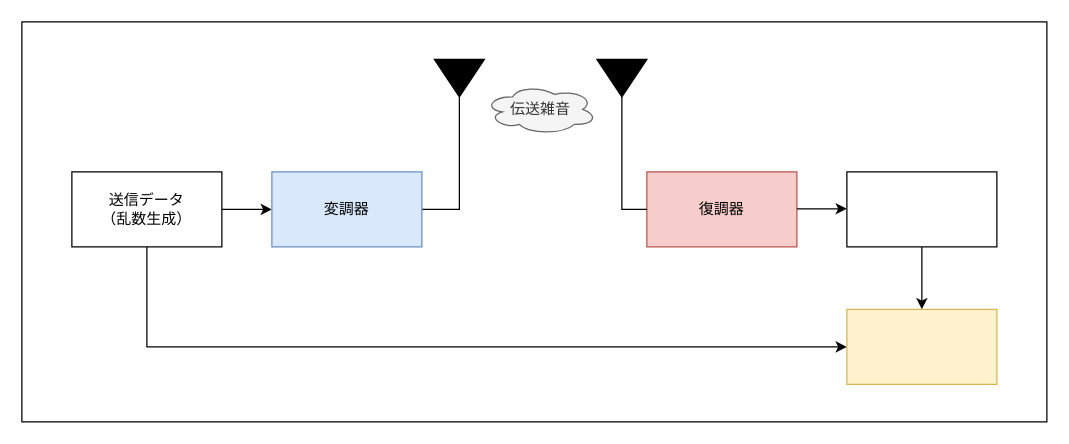
The diagram is 1069 pixels wide and 444 high, and some of its shapes have lost their labels. The centre of each missing label's shape, as x and y in pixels:
"データ比較器 （BER算出）" goes at [921,346].
"受信データ" goes at [921,209].
